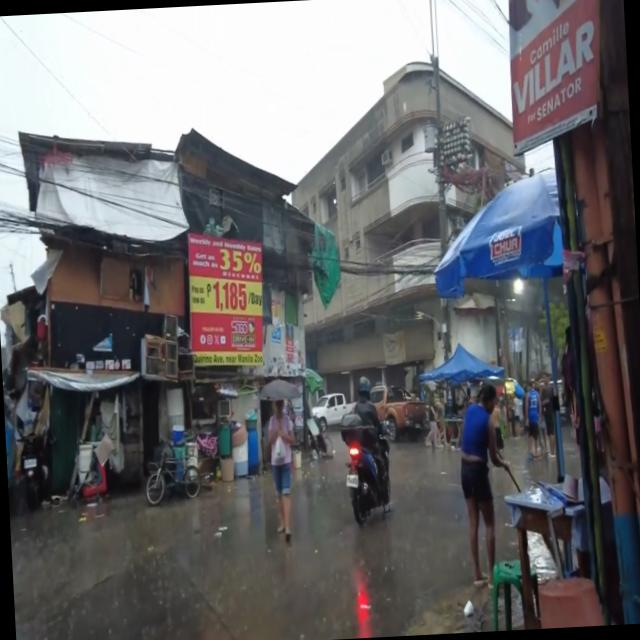full: (357, 374, 372, 402)
